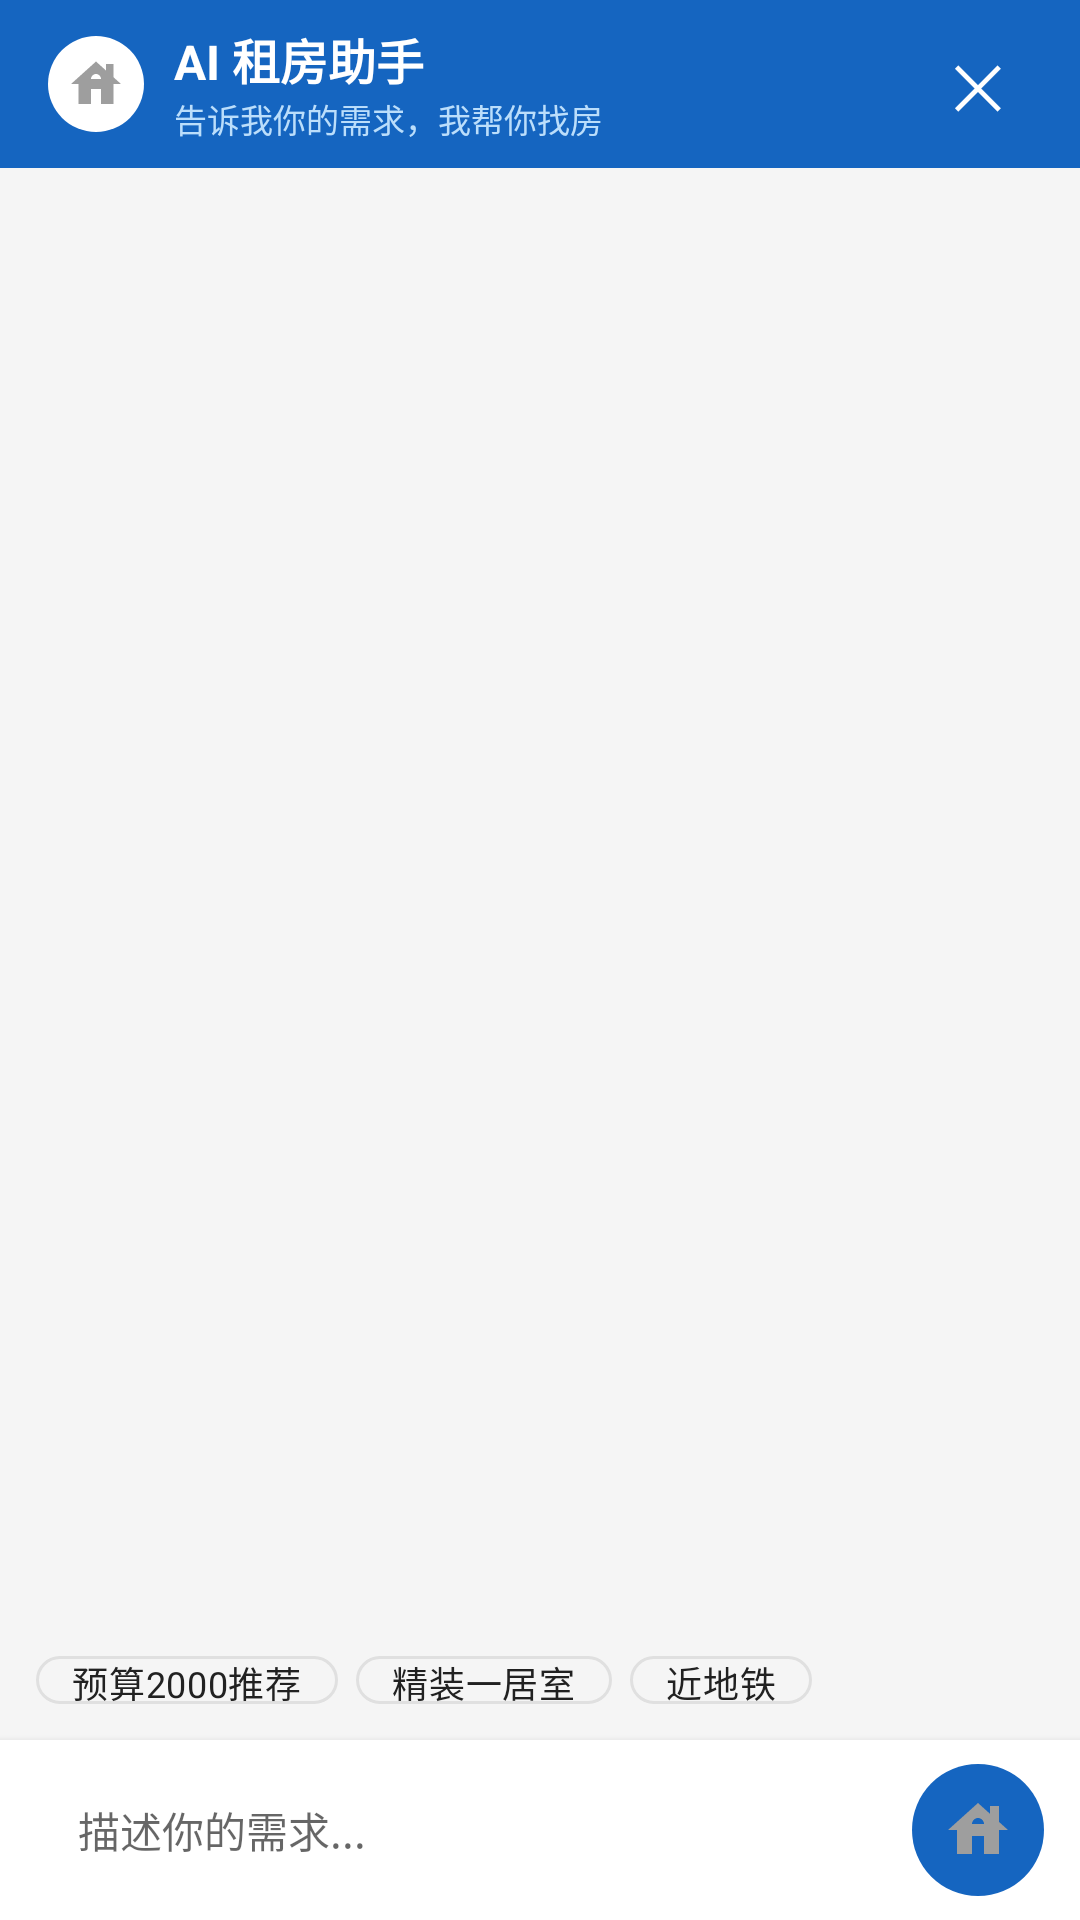

Where icons sit on this 1080 x 1920 app screen, as bbox=[x1, y1, x2, y2]:
house: bbox=[48, 36, 144, 132]
